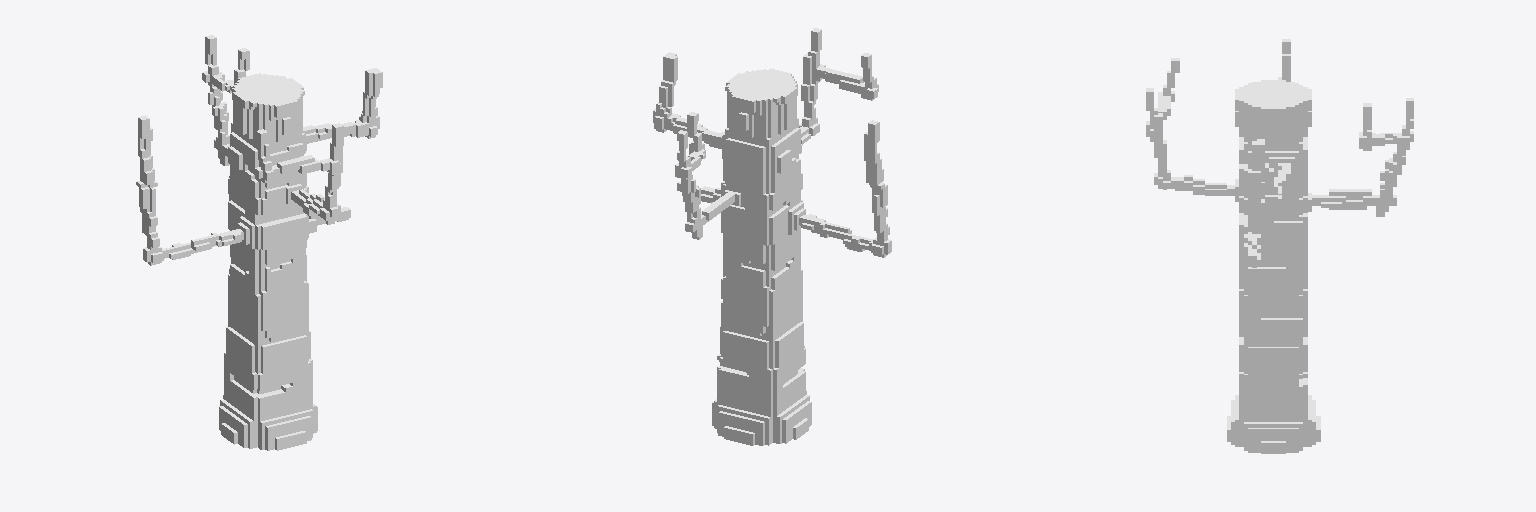
The model's file is trunk_0.obj.
The picture shows the model from 3 angles: view 1: azimuth 30°, elevation 25°; view 2: azimuth 150°, elevation 25°; view 3: azimuth 270°, elevation 25°; orthographic projection.
Parts seen in each view (by area): view 1: object 1; view 2: object 1; view 3: object 1.
Part boxes in pixels (left/top/right/bottom): object 1: left=136, top=35, right=382, bottom=450; object 1: left=653, top=28, right=891, bottom=445; object 1: left=1146, top=39, right=1413, bottom=453.
Bounding box in the file's own units: 6.3 × 9 × 6.3.